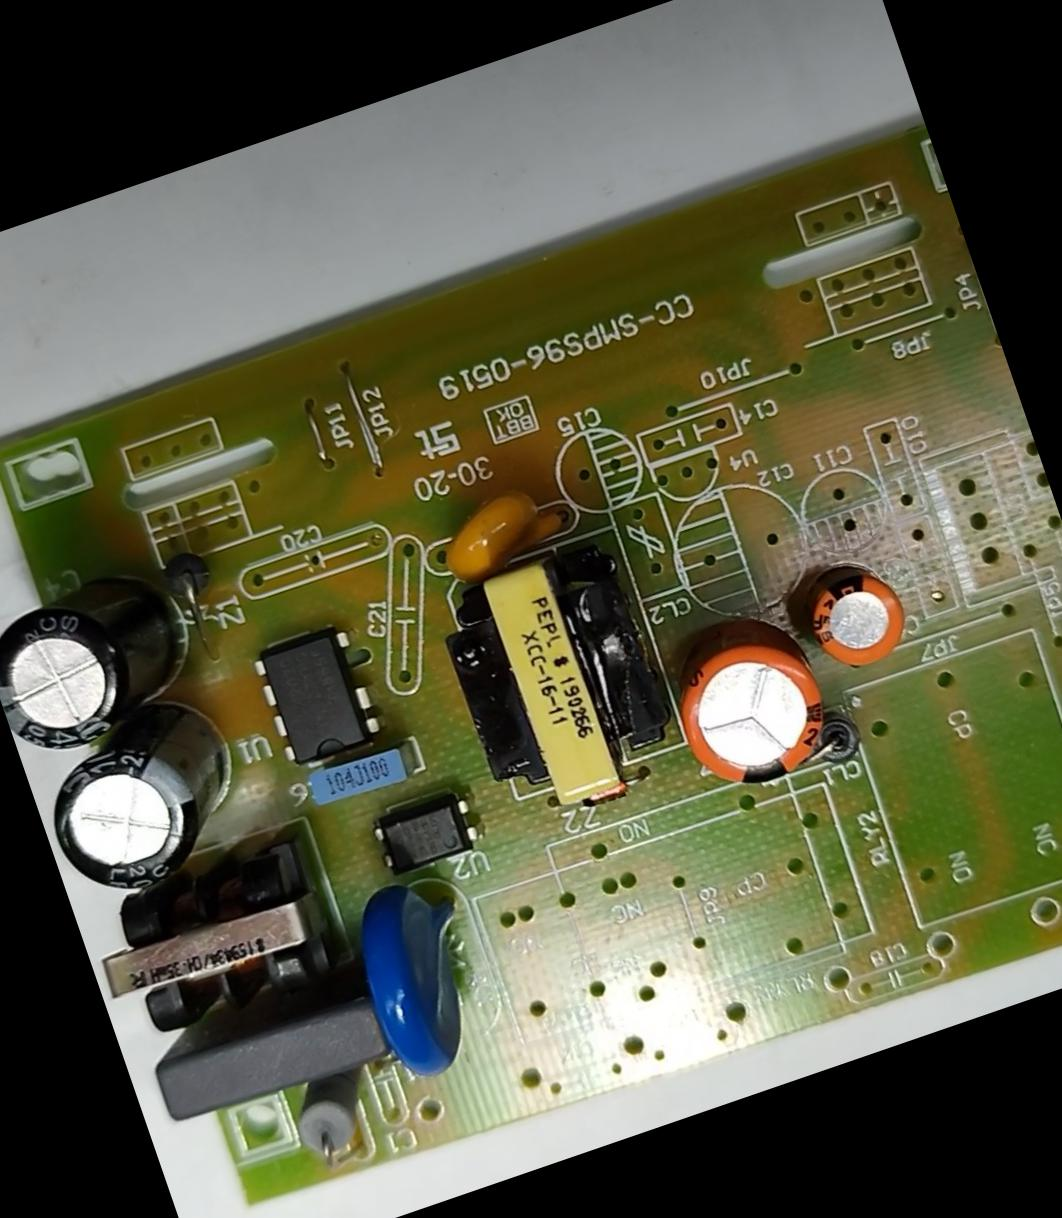Cap1: (659, 616, 848, 804)
Cap2: (801, 562, 916, 676)
Cap3: (37, 688, 272, 911)
Cap4: (0, 548, 217, 770)
MOSFET: (246, 618, 388, 772)
Mov: (337, 857, 517, 1089)
Resistor: (274, 1065, 388, 1171)
Transformer: (424, 526, 696, 830), (80, 831, 353, 1050)
